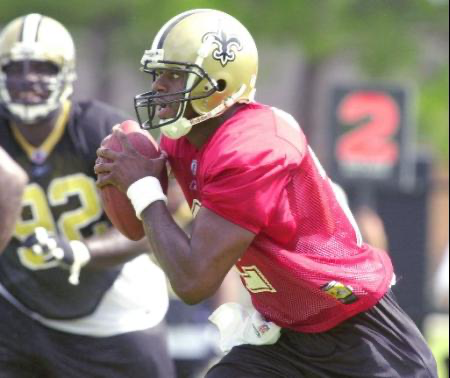Face: (140, 59, 213, 142), (0, 54, 65, 118)
